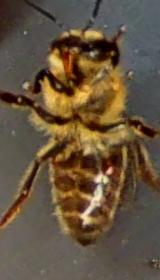varroa_mite: (94, 152, 125, 180)
